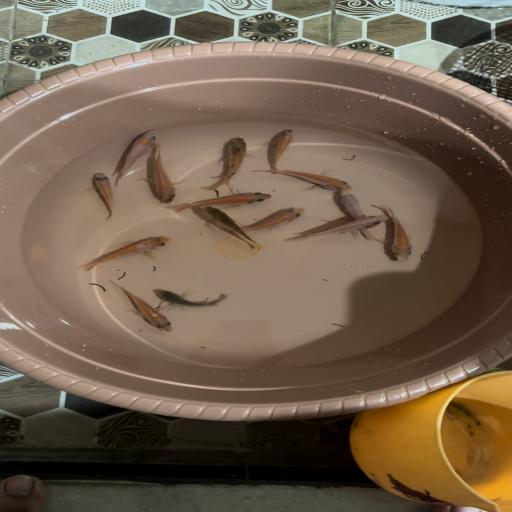nila: (95, 279, 183, 338), (75, 228, 175, 272), (287, 214, 393, 246), (198, 133, 259, 188), (194, 205, 262, 252), (111, 128, 163, 185), (163, 188, 273, 214), (224, 204, 308, 238), (320, 192, 380, 236), (377, 202, 417, 264), (255, 168, 358, 192), (78, 171, 126, 221), (146, 145, 183, 206), (260, 126, 307, 168), (144, 288, 237, 309)
